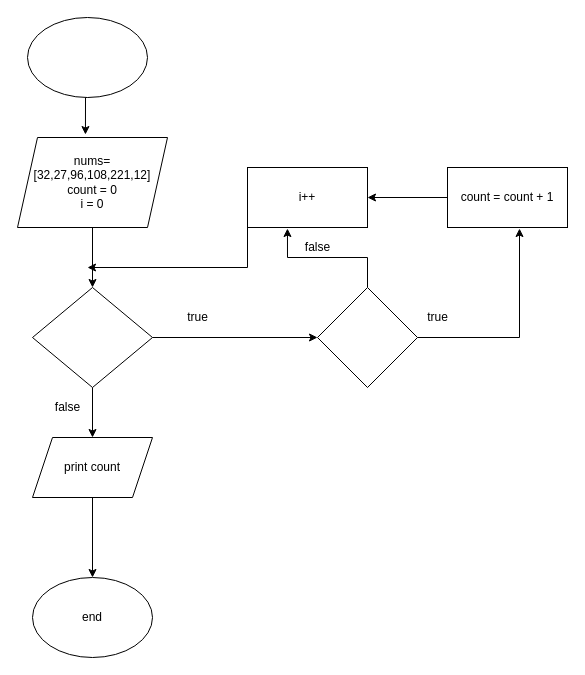
This 585x675 diagram has some shape labels left out. The box of each missing label's shape, as (x1, y1, x2, y2) in pixels:
i < nums.length: (32, 286, 152, 388)
num[i]%2==0: (316, 286, 418, 388)
start: (26, 16, 148, 98)
